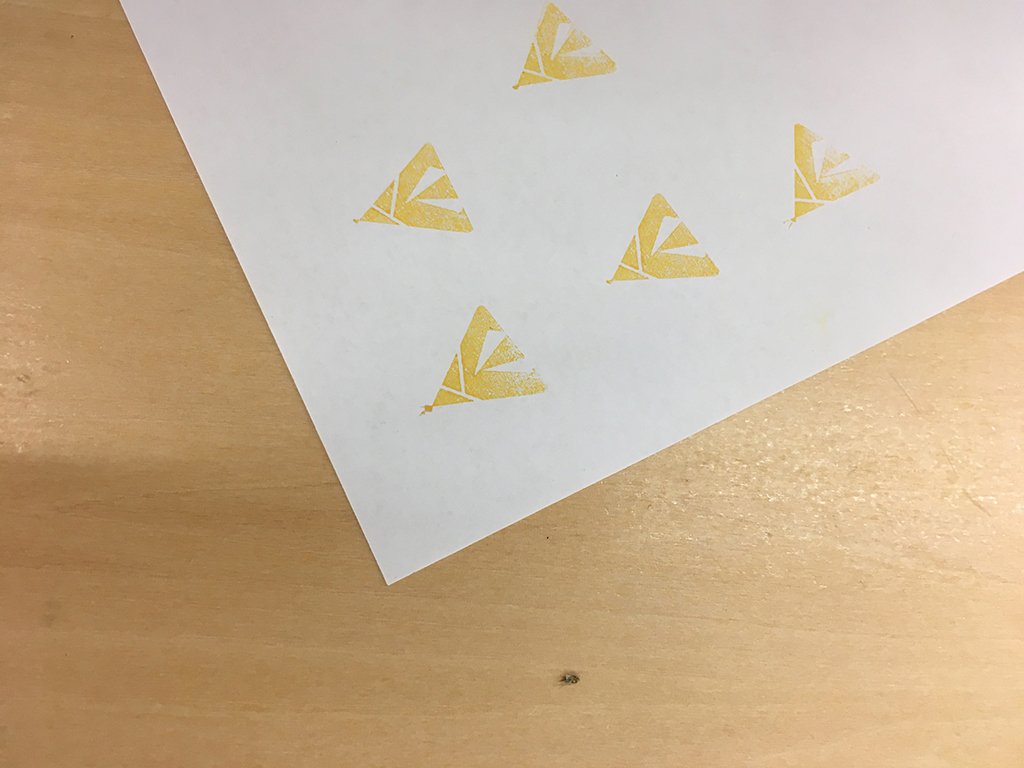tent: (406, 293, 563, 428), (596, 183, 730, 295), (345, 136, 483, 242), (776, 114, 889, 232), (501, 1, 623, 99)
